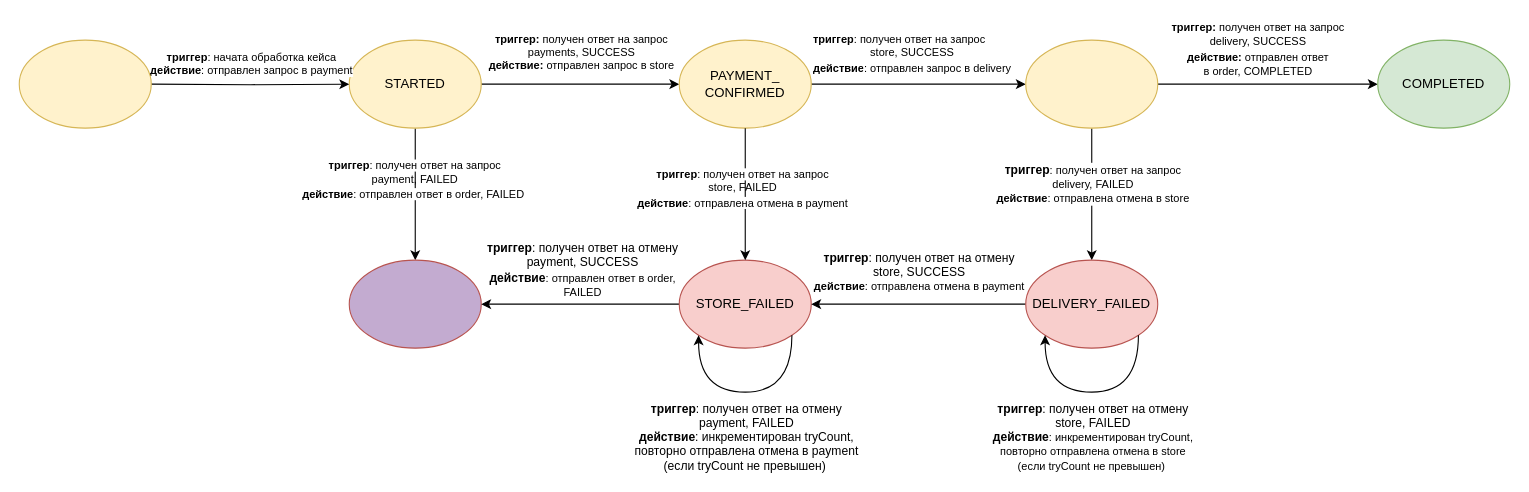
This 1529x492 diagram has some shape labels left out. The centre of each missing label's shape, as x and y in pixels:
"FAILED" belongs at (414,303).
"NEW" belongs at (84,83).
"STORE_ CONFIRMED" belongs at (1091,83).
